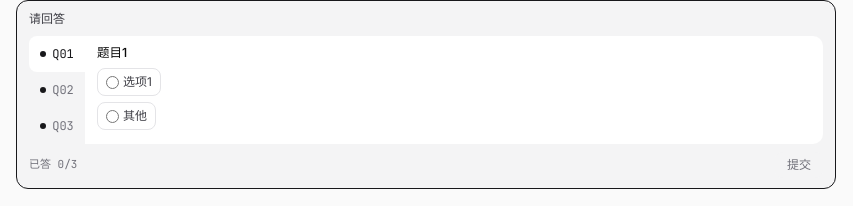
Test: PendingQuestionNav · 单选选中自动前进 › 前进目标 = 按 questions 顺序第一个未答题（先答 q3 → 跳回首题 q1，而非停留附近）
Click the button "Q03". click: click(57, 126)
box: [29,108,85,144]
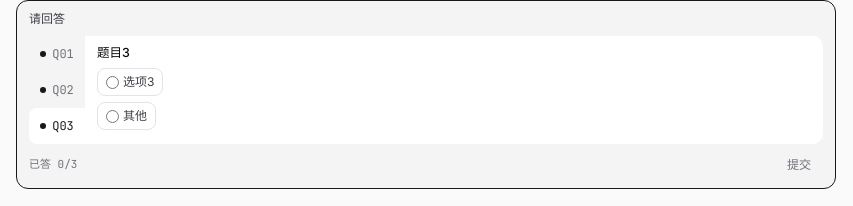
Click the text "选项3". click: click(130, 82)
box: [97,68,163,96]
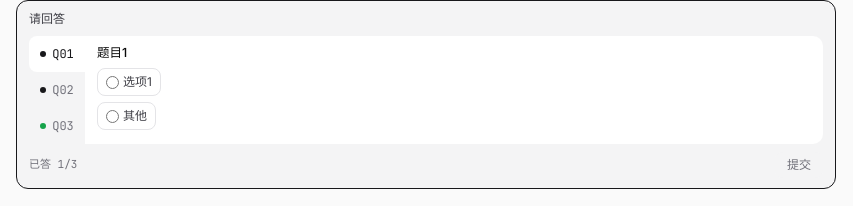
Now the text "选项1" is shown, box [97,68,161,96]
Now the text "选项3" is gone
